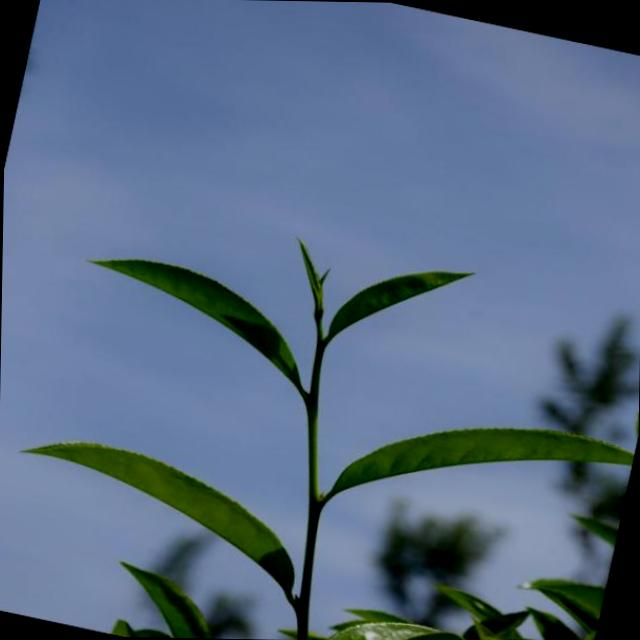Stem: (315, 337, 324, 347)
